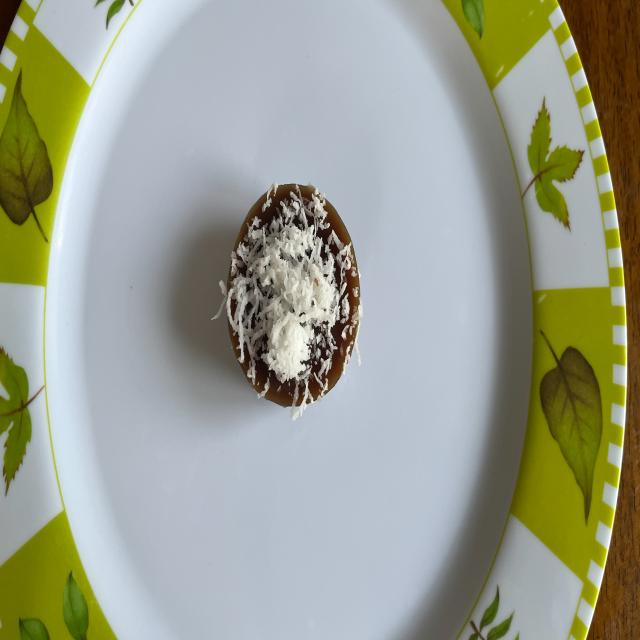Kuih lompang: (220, 184, 362, 418)
